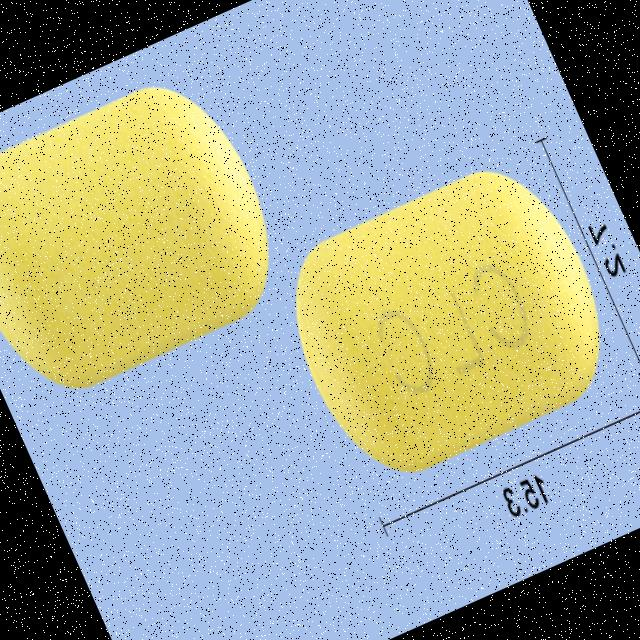Claric - 500mg: (256, 138, 640, 504), (0, 53, 307, 423)
